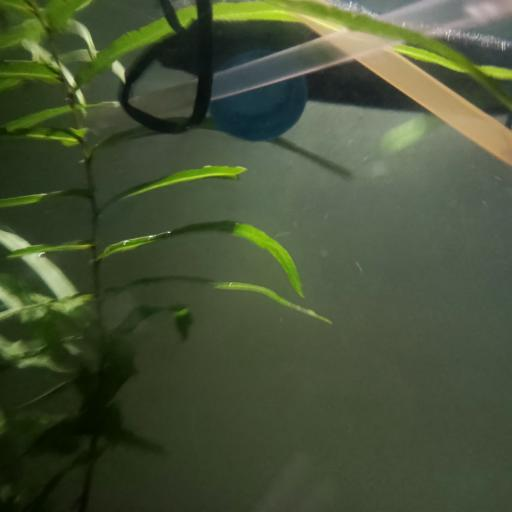bottle_cap: (214, 46, 311, 138)
mask: (116, 0, 512, 130)
plastic_straw: (68, 0, 512, 142), (285, 0, 512, 165)
